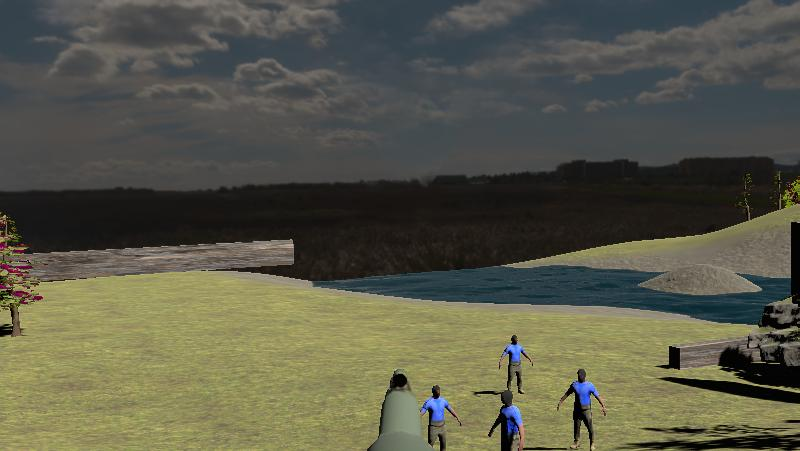Human: (557, 368, 606, 450), (419, 383, 462, 450), (487, 389, 525, 449), (499, 334, 533, 396)
